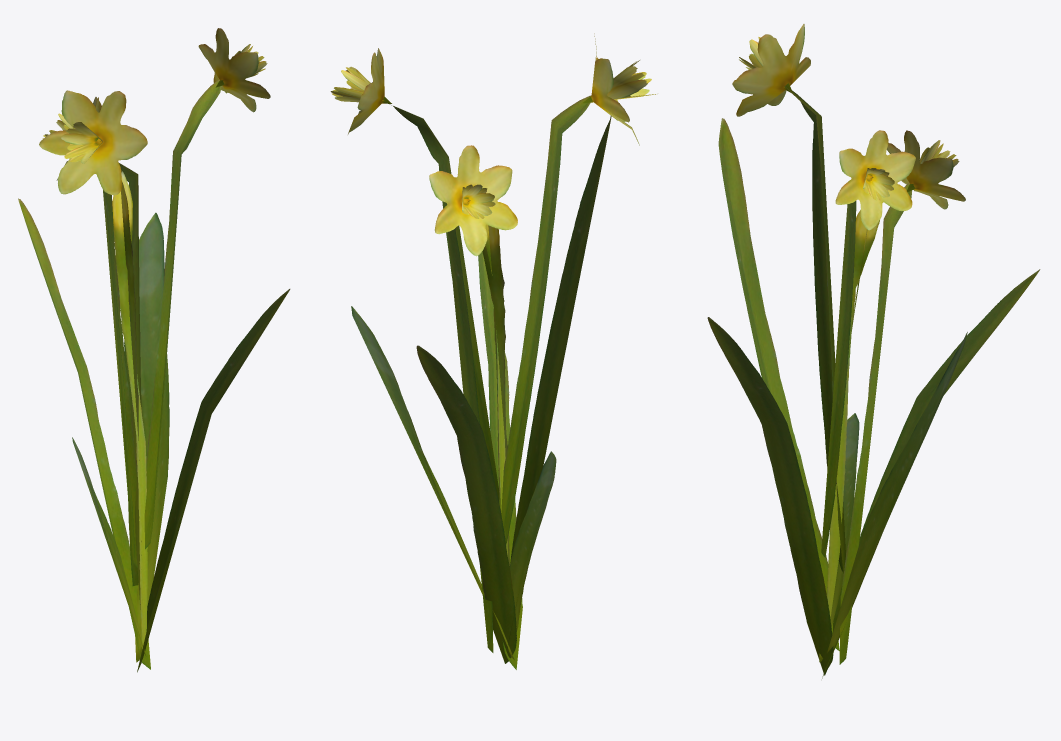
The model's file is Flower_09.fbx.
The picture shows the model from 3 angles, left to right: view 1: azimuth 30°, elevation 25°; view 2: azimuth 150°, elevation 25°; view 3: azimuth 270°, elevation 25°; orthographic projection. The views are drawn at different scales.
Parts seen in each view (by area): view 1: flower_09; view 2: flower_09; view 3: flower_09.
Part boxes in pixels (<box>): flower_09: <box>18,28,290,672</box>; flower_09: <box>330,33,655,669</box>; flower_09: <box>707,24,1040,678</box>.
Bounding box in the file's own units: 0.6144 × 1.47 × 0.7048.
